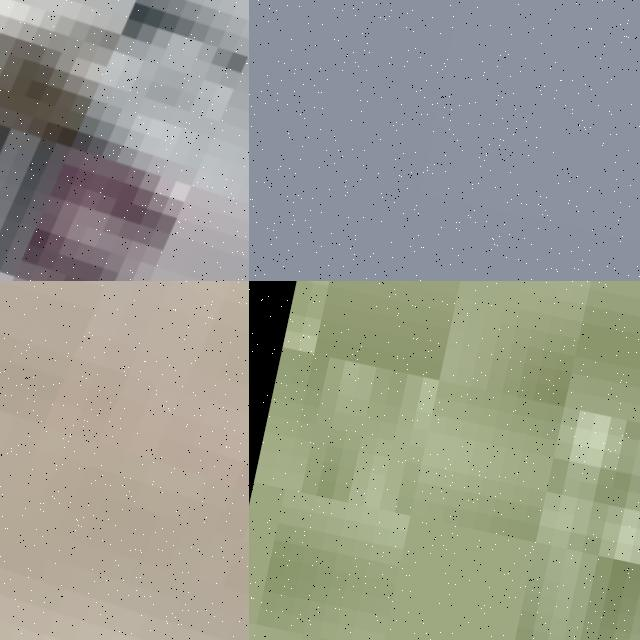0: (0, 0, 249, 281)
drone: (0, 281, 249, 640)
